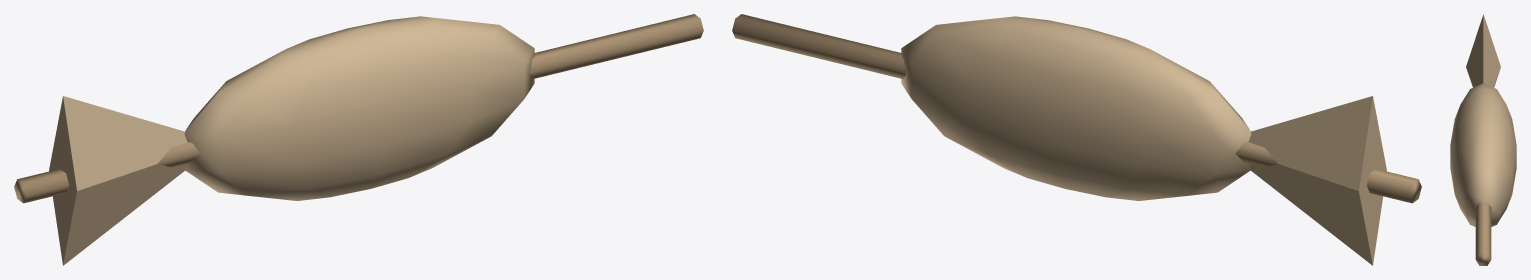
Rendered from peixe_assado.glb.
The picture shows the model from 3 angles, left to right: view 1: azimuth 30°, elevation 25°; view 2: azimuth 150°, elevation 25°; view 3: azimuth 270°, elevation 25°; orthographic projection. The views are drawn at different scales.
Visible parts, largest first — view 1: Cone; view 2: Cone; view 3: Cone.
Part boxes in pixels (box(x1,y1,x2,y2)): Cone: box(14, 14, 703, 265); Cone: box(732, 14, 1421, 265); Cone: box(1450, 14, 1516, 265).
Size of the model in its own units: 0.5 by 0.12 by 0.0682.
